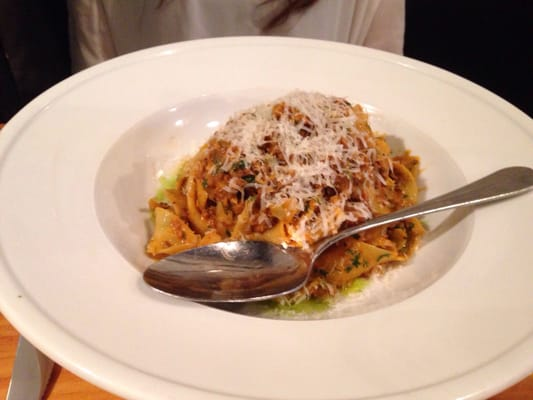salad: (310, 165, 533, 262)
sushi: (3, 35, 519, 370)
